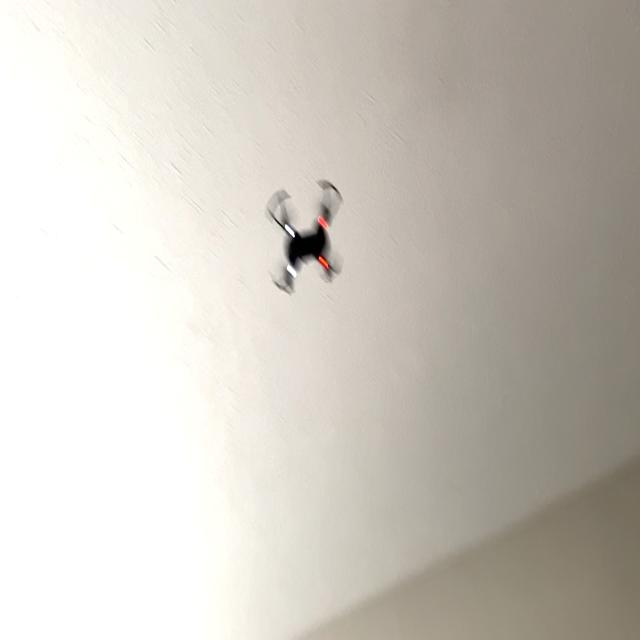drone: (254, 157, 356, 319)
